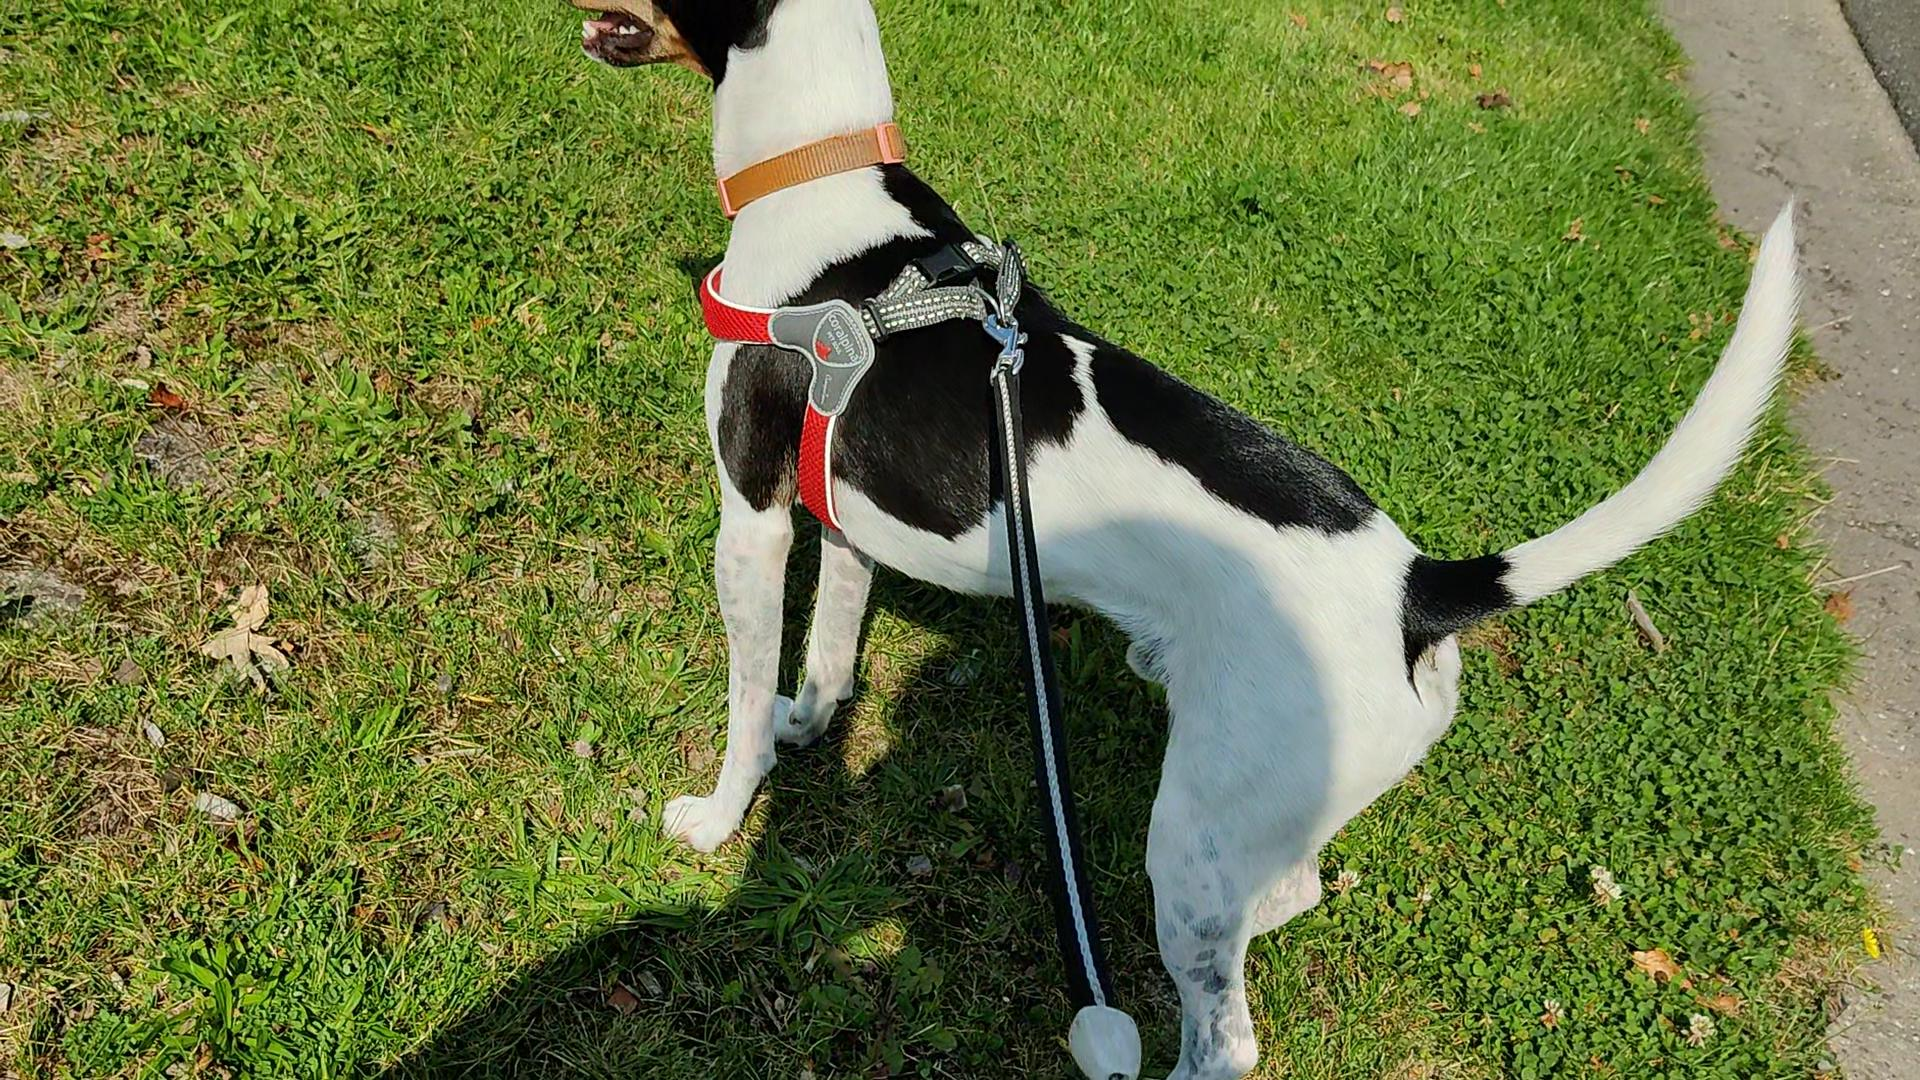Dog: (562, 3, 1807, 1079)
